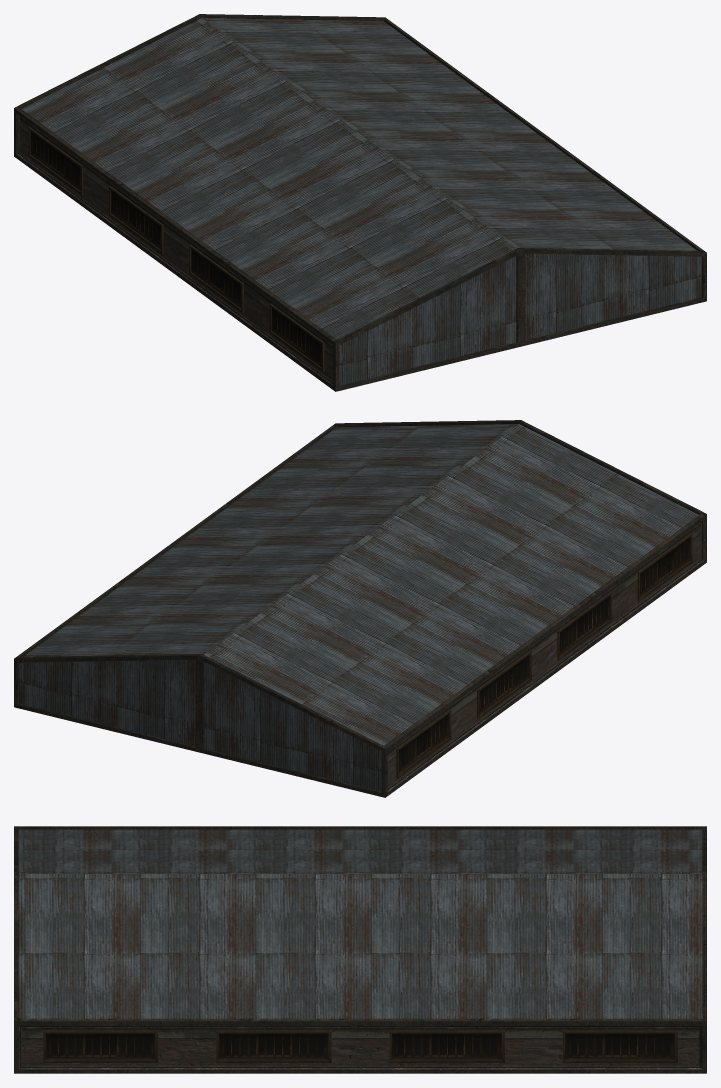
The model's file is roof_mh_4_a_3.glb.
The picture shows the model from 3 angles, top to bottom: view 1: azimuth 30°, elevation 25°; view 2: azimuth 150°, elevation 25°; view 3: azimuth 270°, elevation 25°; orthographic projection. The views are drawn at different scales.
Visible parts, largest first — view 1: roof_mh_4_a_3; view 2: roof_mh_4_a_3; view 3: roof_mh_4_a_3.
Boxes of the visible parts, x1,y1,x2,y2 form: roof_mh_4_a_3: (14,14,706,391); roof_mh_4_a_3: (14,420,706,797); roof_mh_4_a_3: (14,826,706,1073).
Size of the model in its own units: 8 by 2 by 12.
6 materials, 6 textured.
